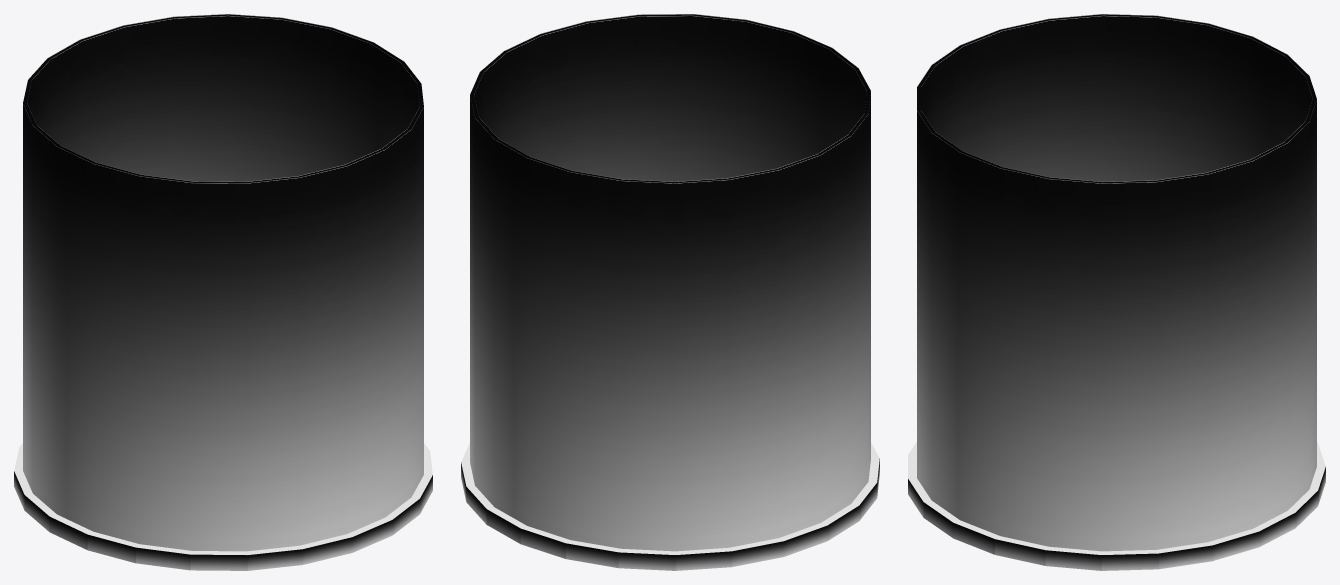
Rendered from teleport-target.glb.
3 views of the same model, side by side, from view 1: azimuth 30°, elevation 25°; view 2: azimuth 150°, elevation 25°; view 3: azimuth 270°, elevation 25° (orthographic).
Parts seen in each view (by area): view 1: Cylinder.001; view 2: Cylinder.001; view 3: Cylinder.001.
Part boxes in pixels (bbox=[...]): Cylinder.001: bbox=[14, 14, 432, 570]; Cylinder.001: bbox=[461, 14, 879, 570]; Cylinder.001: bbox=[908, 14, 1325, 570].
Bounding box in the file's own units: 2 × 2.02 × 1.99.
Materials: 1 (1 with a texture image).
